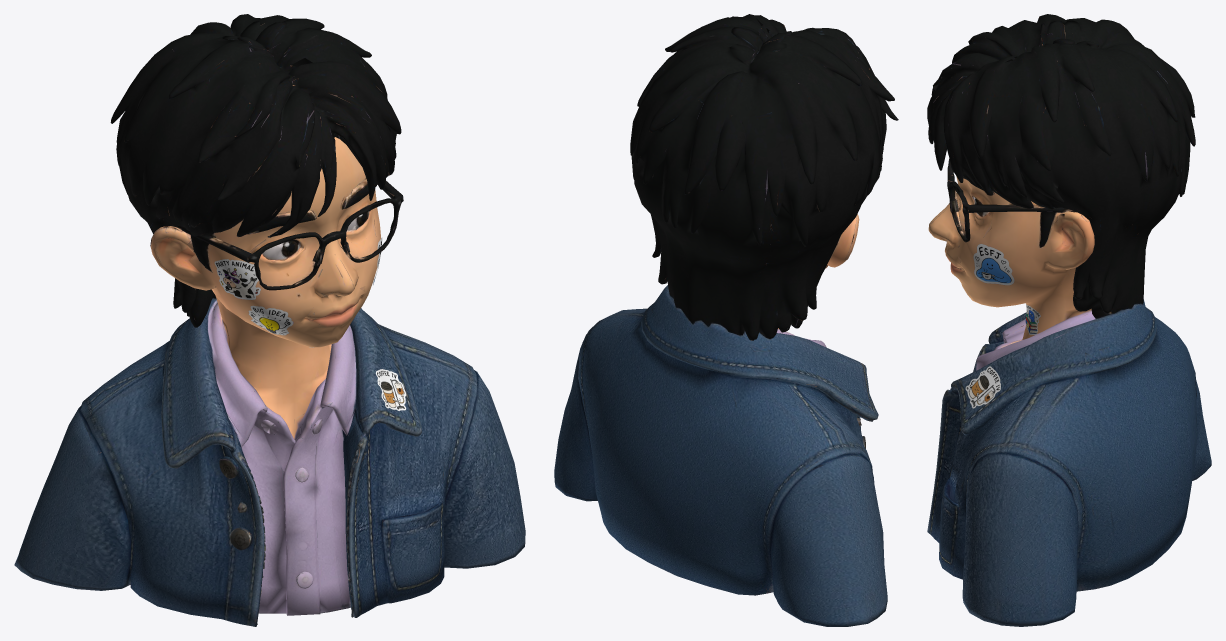
3 renders of one model, left to right at view 1: azimuth 30°, elevation 25°; view 2: azimuth 150°, elevation 25°; view 3: azimuth 270°, elevation 25°, orthographic. The views are drawn at different scales.
Parts seen in each view (by area): view 1: model-normalized, decal-1, decal-0, decal-3; view 2: model-normalized; view 3: model-normalized, decal-4, decal-3.
Boxes of the visible parts, x1,y1,x2,y2 form: model-normalized: [14, 14, 525, 626]; decal-1: [214, 259, 260, 299]; decal-0: [248, 305, 293, 335]; decal-3: [375, 369, 406, 410]; model-normalized: [554, 14, 898, 626]; model-normalized: [927, 14, 1211, 626]; decal-4: [973, 244, 1014, 285]; decal-3: [965, 366, 1000, 408].
Bounding box in the file's own units: 0.7695 × 0.9512 × 0.499.
Materials: 6 (6 with a texture image).
